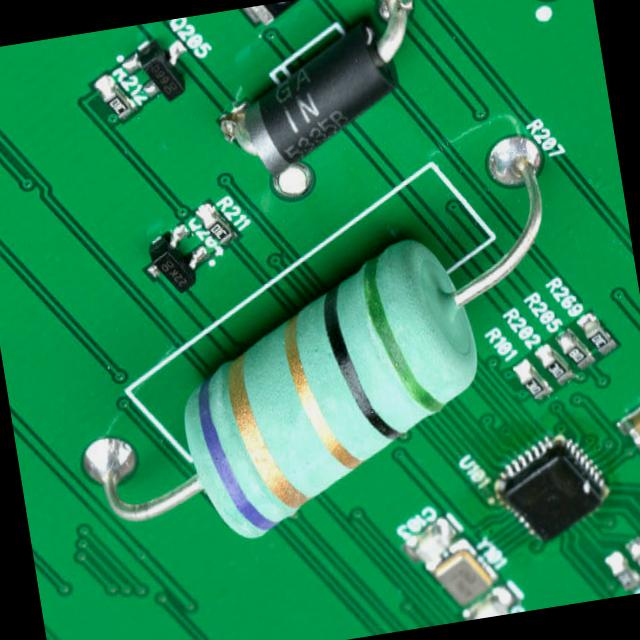diode: (221, 24, 424, 178)
resistor: (124, 221, 510, 538)
